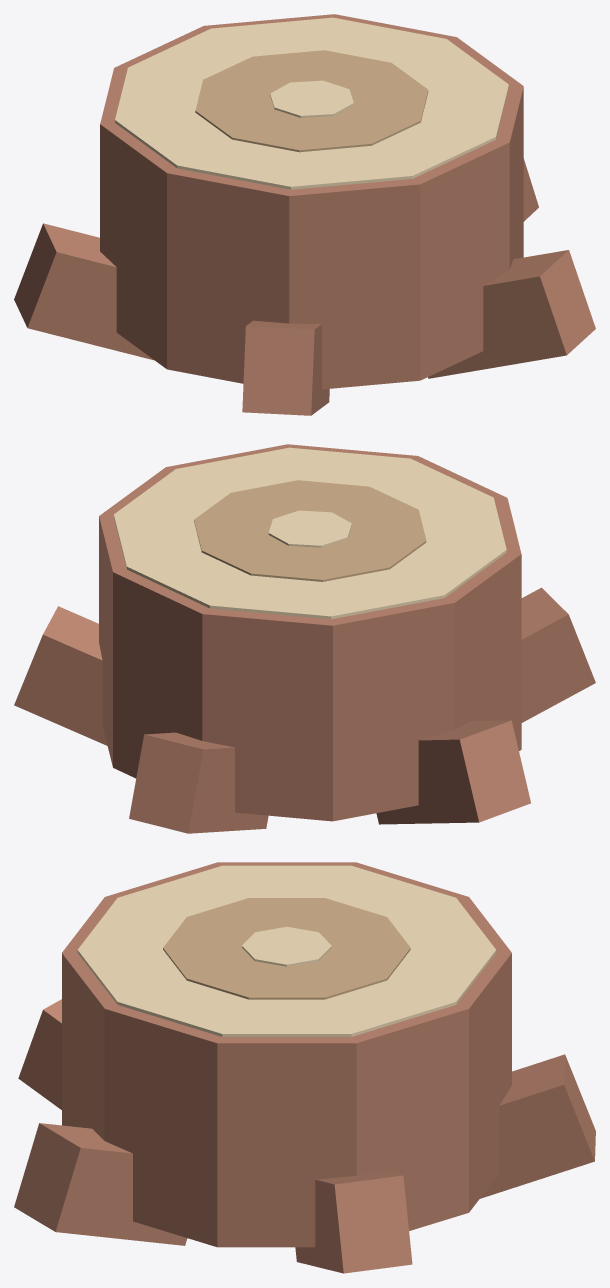
File: Stump_Red.fbx
3 views of the same model, one above another, from view 1: azimuth 30°, elevation 25°; view 2: azimuth 150°, elevation 25°; view 3: azimuth 270°, elevation 25° (orthographic). The views are drawn at different scales.
Visible parts, largest first — view 1: Stump_Red_Mesh; view 2: Stump_Red_Mesh; view 3: Stump_Red_Mesh.
Boxes of the visible parts, box(x1,y1,x2,y2) form: Stump_Red_Mesh: box(14, 14, 595, 415); Stump_Red_Mesh: box(14, 444, 595, 833); Stump_Red_Mesh: box(14, 862, 595, 1273).
Size of the model in its own units: 2.71 by 1.23 by 2.59.
